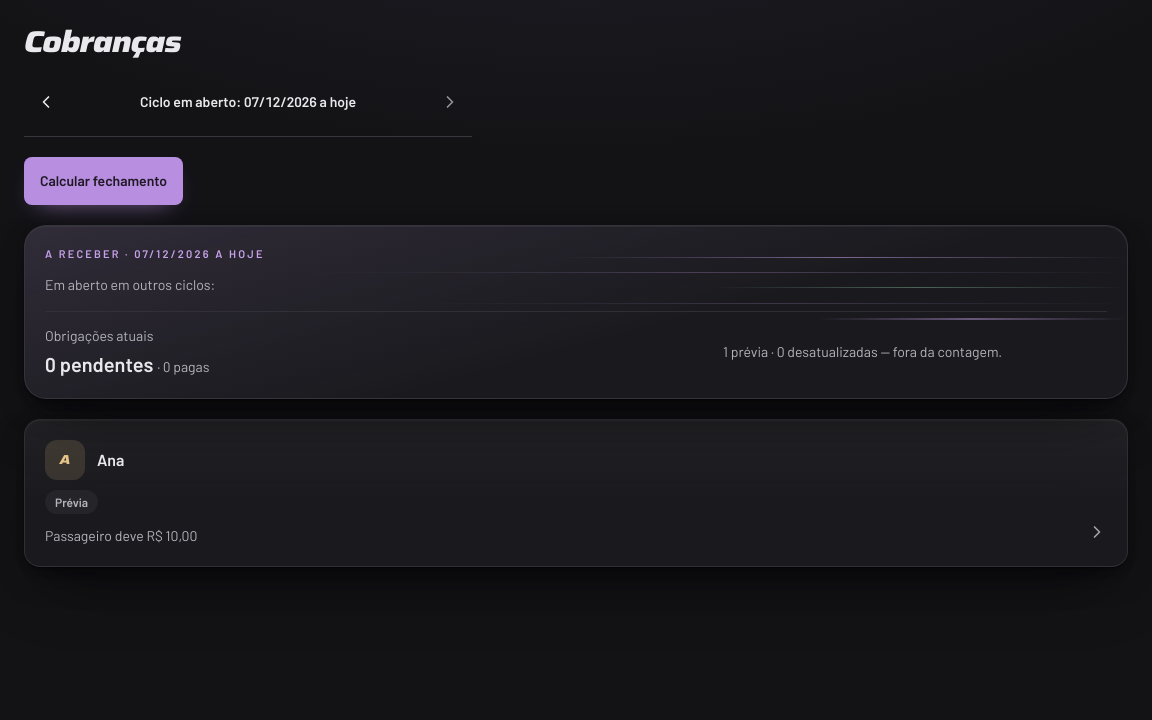
Test: the preview › does not ask while the date is empty
Click the button "Calcular fechamento" at (104, 181), box top-left (24, 157), bottom-right (183, 205)
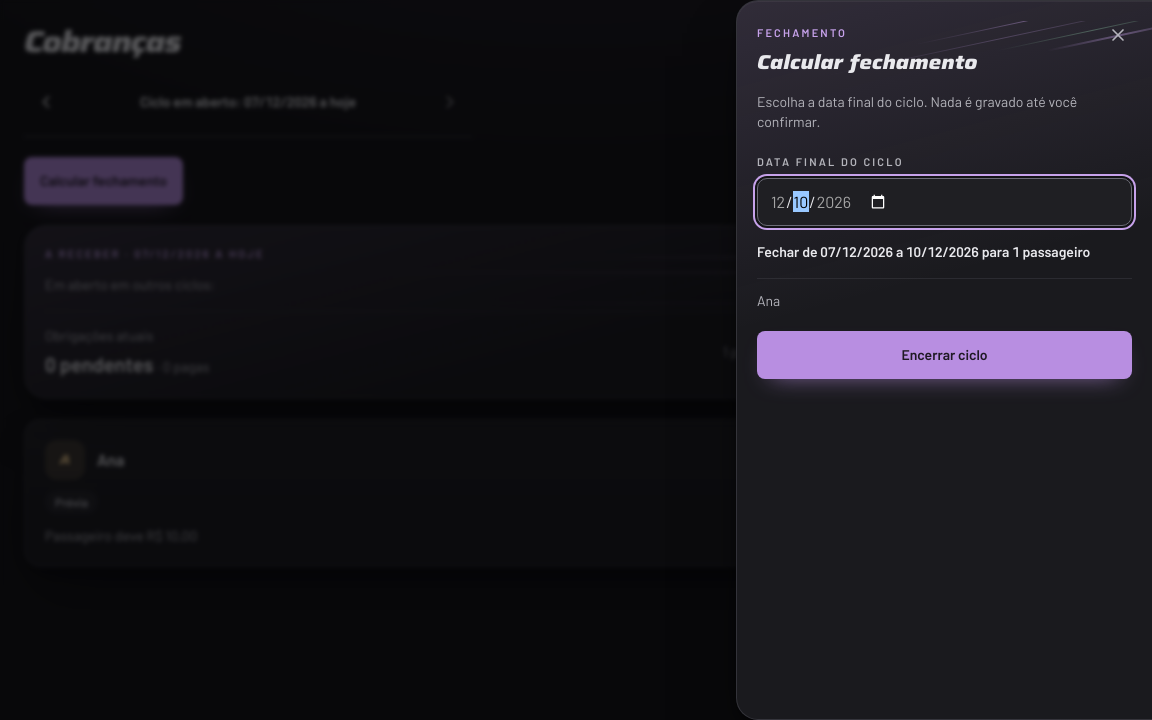
Expected: the text "Fechar de 07/12/2026 a 10/12/2026 para 1 passageiro" is shown, top-left (757, 242), bottom-right (1132, 262)
Clear the date field labelled "Data final do ciclo" at (944, 202), box top-left (757, 178), bottom-right (1132, 226)
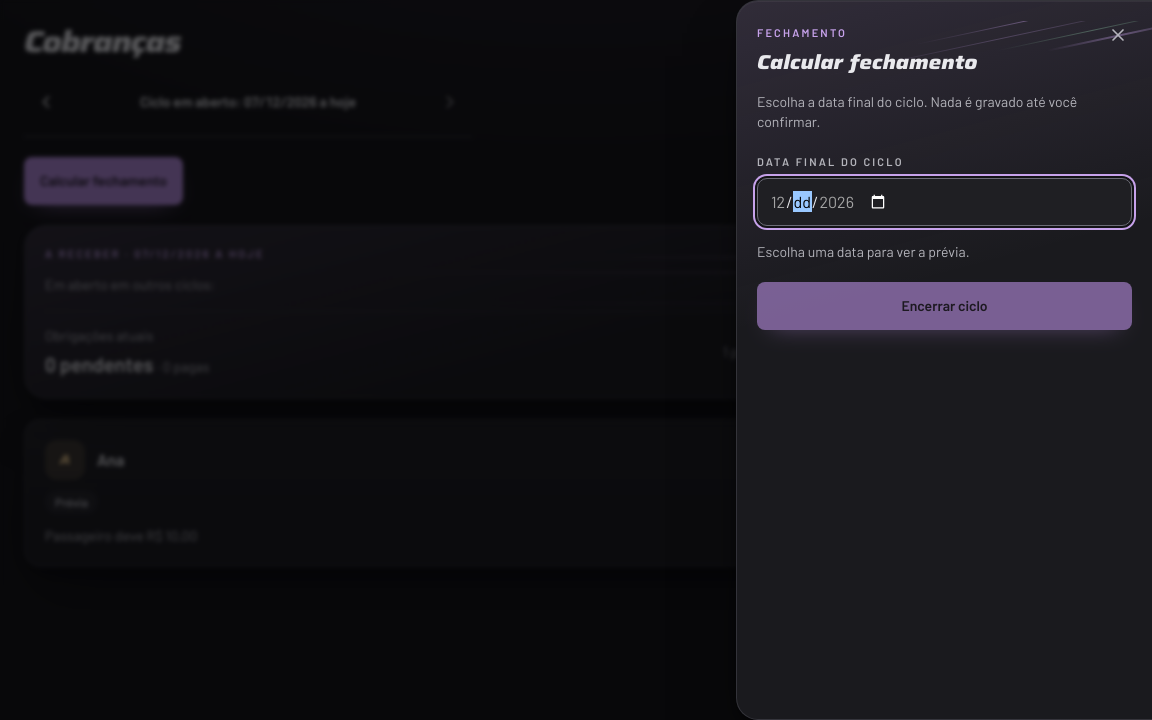
Expected: the text "Escolha uma data para ver a prévia." is shown, top-left (757, 242), bottom-right (970, 260)
Expected: the button "Encerrar ciclo" is disabled, top-left (757, 282), bottom-right (1132, 330)
